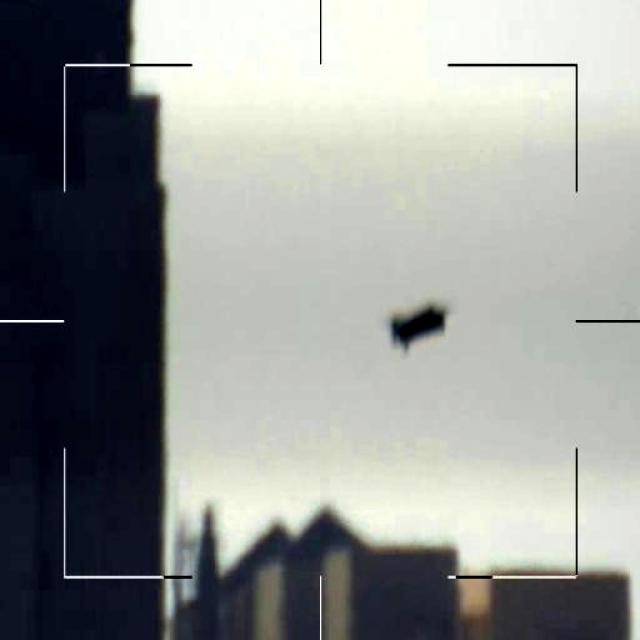bird: (389, 302, 449, 354)
